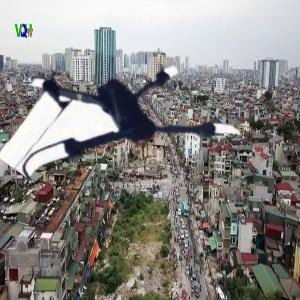drone: (26, 19, 237, 230)
